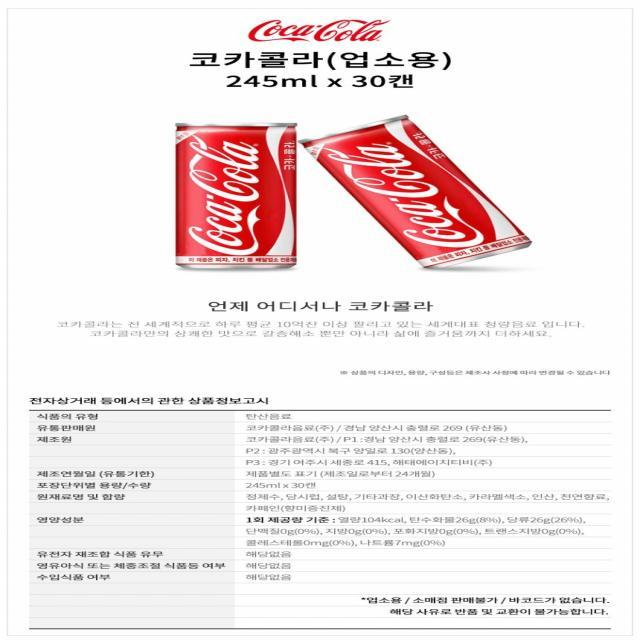coca-cola: (304, 111, 538, 275), (164, 115, 300, 275)
